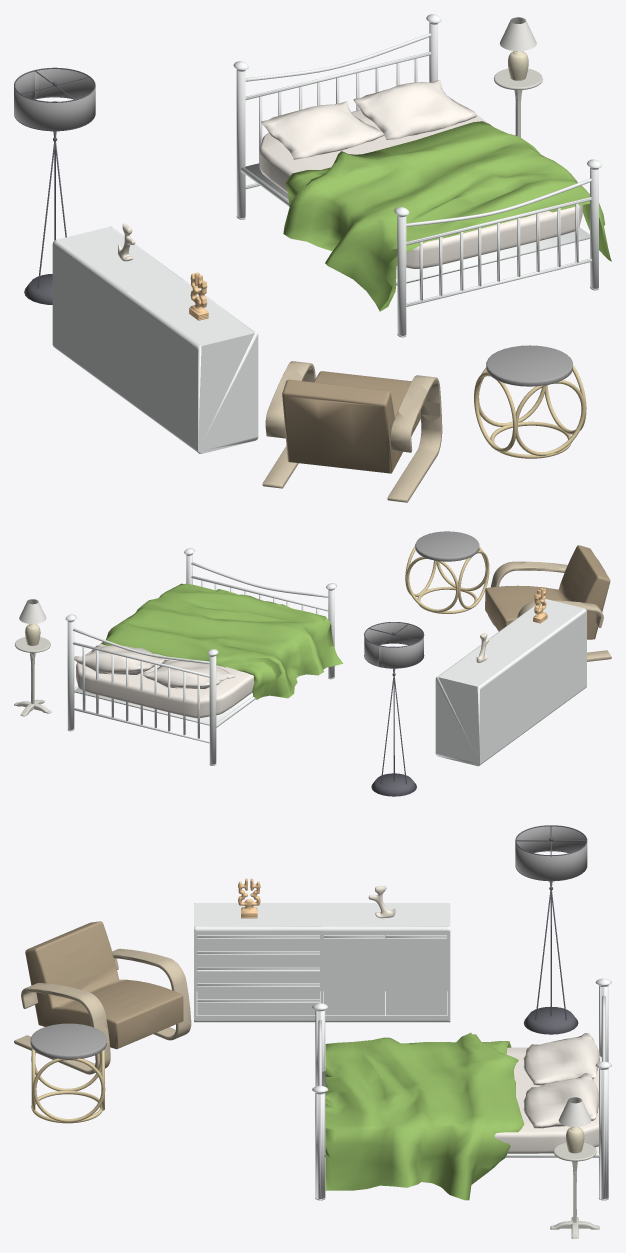
The model's file is room_level4_group_06_lev1.glb.
3 renders of one model, top to bottom at view 1: azimuth 30°, elevation 25°; view 2: azimuth 150°, elevation 25°; view 3: azimuth 270°, elevation 25°, orthographic. The views are drawn at different scales.
Visible parts, largest first — view 1: mesh81__6dab0233_c0c7_3248_b49c_e086db919bce__0_lev1, mesh94__1f19c920_ce5a_3842_bb2a_e70101ab46c6__0_lev1, mesh92__62dbe038_df40_0c4d_b67d_7e3f849b26df__0_lev1, mesh93__6dab0233_c0c7_3248_b49c_e086db919bce__0_lev1, mesh79__79fb8a60_4b40_e04b_996b_f35bad34d1c8__0_lev1, mesh78__e2d2bee2_0528_e141_b297_dab19f6332b7__0_lev1, mesh132__5ff736ce_4de9_3040_b753_da85a934f002__0_lev1, mesh71__887e052e_7184_394d_b81b_6c3c057e5b5c__0_lev1, mesh70__7b6aa80e_c070_1d4c_8ddd_a00da2061ac3__0_lev1, mesh130__606be289_e36f_be4e_92d2_bc96bebee327__0_lev1, mesh88__074d10d5_88d0_1e49_9eec_44bf646ab955__0_lev1, mesh90__d239a3ce_7042_cf48_9492_353c45fa69f3__0_lev1; view 2: mesh81__6dab0233_c0c7_3248_b49c_e086db919bce__0_lev1, mesh94__1f19c920_ce5a_3842_bb2a_e70101ab46c6__0_lev1, mesh92__62dbe038_df40_0c4d_b67d_7e3f849b26df__0_lev1, mesh93__6dab0233_c0c7_3248_b49c_e086db919bce__0_lev1, mesh79__79fb8a60_4b40_e04b_996b_f35bad34d1c8__0_lev1, mesh132__5ff736ce_4de9_3040_b753_da85a934f002__0_lev1, mesh71__887e052e_7184_394d_b81b_6c3c057e5b5c__0_lev1, mesh70__7b6aa80e_c070_1d4c_8ddd_a00da2061ac3__0_lev1, mesh78__e2d2bee2_0528_e141_b297_dab19f6332b7__0_lev1, mesh130__606be289_e36f_be4e_92d2_bc96bebee327__0_lev1, mesh73__ae3dd039_72c0_d148_b51a_0d4dce6b57bf__0_lev1, mesh88__074d10d5_88d0_1e49_9eec_44bf646ab955__0_lev1 (+3 smaller); view 3: mesh81__6dab0233_c0c7_3248_b49c_e086db919bce__0_lev1, mesh94__1f19c920_ce5a_3842_bb2a_e70101ab46c6__0_lev1, mesh79__79fb8a60_4b40_e04b_996b_f35bad34d1c8__0_lev1, mesh92__62dbe038_df40_0c4d_b67d_7e3f849b26df__0_lev1, mesh93__6dab0233_c0c7_3248_b49c_e086db919bce__0_lev1, mesh78__e2d2bee2_0528_e141_b297_dab19f6332b7__0_lev1, mesh132__5ff736ce_4de9_3040_b753_da85a934f002__0_lev1, mesh70__7b6aa80e_c070_1d4c_8ddd_a00da2061ac3__0_lev1, mesh130__606be289_e36f_be4e_92d2_bc96bebee327__0_lev1, mesh71__887e052e_7184_394d_b81b_6c3c057e5b5c__0_lev1, mesh73__ae3dd039_72c0_d148_b51a_0d4dce6b57bf__0_lev1, mesh88__074d10d5_88d0_1e49_9eec_44bf646ab955__0_lev1 (+2 smaller).
Part boxes in pixels (left/top/right/bottom): mesh81__6dab0233_c0c7_3248_b49c_e086db919bce__0_lev1: left=52, top=226, right=258, bottom=453; mesh94__1f19c920_ce5a_3842_bb2a_e70101ab46c6__0_lev1: left=283, top=121, right=611, bottom=311; mesh92__62dbe038_df40_0c4d_b67d_7e3f849b26df__0_lev1: left=259, top=80, right=582, bottom=268; mesh93__6dab0233_c0c7_3248_b49c_e086db919bce__0_lev1: left=233, top=14, right=601, bottom=337; mesh79__79fb8a60_4b40_e04b_996b_f35bad34d1c8__0_lev1: left=282, top=371, right=420, bottom=473; mesh78__e2d2bee2_0528_e141_b297_dab19f6332b7__0_lev1: left=262, top=361, right=442, bottom=502; mesh132__5ff736ce_4de9_3040_b753_da85a934f002__0_lev1: left=14, top=69, right=95, bottom=130; mesh71__887e052e_7184_394d_b81b_6c3c057e5b5c__0_lev1: left=474, top=365, right=586, bottom=458; mesh70__7b6aa80e_c070_1d4c_8ddd_a00da2061ac3__0_lev1: left=486, top=345, right=572, bottom=386; mesh130__606be289_e36f_be4e_92d2_bc96bebee327__0_lev1: left=14, top=67, right=95, bottom=304; mesh88__074d10d5_88d0_1e49_9eec_44bf646ab955__0_lev1: left=500, top=17, right=536, bottom=51; mesh90__d239a3ce_7042_cf48_9492_353c45fa69f3__0_lev1: left=189, top=272, right=208, bottom=320; mesh81__6dab0233_c0c7_3248_b49c_e086db919bce__0_lev1: left=435, top=599, right=586, bottom=766; mesh94__1f19c920_ce5a_3842_bb2a_e70101ab46c6__0_lev1: left=101, top=583, right=342, bottom=699; mesh92__62dbe038_df40_0c4d_b67d_7e3f849b26df__0_lev1: left=74, top=643, right=254, bottom=718; mesh93__6dab0233_c0c7_3248_b49c_e086db919bce__0_lev1: left=65, top=548, right=336, bottom=765; mesh79__79fb8a60_4b40_e04b_996b_f35bad34d1c8__0_lev1: left=485, top=545, right=610, bottom=639; mesh132__5ff736ce_4de9_3040_b753_da85a934f002__0_lev1: left=364, top=622, right=423, bottom=667; mesh71__887e052e_7184_394d_b81b_6c3c057e5b5c__0_lev1: left=405, top=546, right=489, bottom=613; mesh70__7b6aa80e_c070_1d4c_8ddd_a00da2061ac3__0_lev1: left=415, top=531, right=479, bottom=561; mesh78__e2d2bee2_0528_e141_b297_dab19f6332b7__0_lev1: left=488, top=561, right=611, bottom=661; mesh130__606be289_e36f_be4e_92d2_bc96bebee327__0_lev1: left=364, top=622, right=424, bottom=796; mesh73__ae3dd039_72c0_d148_b51a_0d4dce6b57bf__0_lev1: left=14, top=637, right=51, bottom=716; mesh88__074d10d5_88d0_1e49_9eec_44bf646ab955__0_lev1: left=19, top=599, right=46, bottom=624; mesh81__6dab0233_c0c7_3248_b49c_e086db919bce__0_lev1: left=194, top=903, right=450, bottom=1022; mesh94__1f19c920_ce5a_3842_bb2a_e70101ab46c6__0_lev1: left=325, top=1032, right=524, bottom=1200; mesh79__79fb8a60_4b40_e04b_996b_f35bad34d1c8__0_lev1: left=25, top=921, right=183, bottom=1049; mesh92__62dbe038_df40_0c4d_b67d_7e3f849b26df__0_lev1: left=494, top=1033, right=601, bottom=1153; mesh93__6dab0233_c0c7_3248_b49c_e086db919bce__0_lev1: left=312, top=978, right=611, bottom=1200; mesh78__e2d2bee2_0528_e141_b297_dab19f6332b7__0_lev1: left=14, top=948, right=191, bottom=1074; mesh132__5ff736ce_4de9_3040_b753_da85a934f002__0_lev1: left=515, top=826, right=587, bottom=880; mesh70__7b6aa80e_c070_1d4c_8ddd_a00da2061ac3__0_lev1: left=30, top=1023, right=106, bottom=1059; mesh130__606be289_e36f_be4e_92d2_bc96bebee327__0_lev1: left=515, top=825, right=587, bottom=1034; mesh71__887e052e_7184_394d_b81b_6c3c057e5b5c__0_lev1: left=31, top=1047, right=105, bottom=1123; mesh73__ae3dd039_72c0_d148_b51a_0d4dce6b57bf__0_lev1: left=550, top=1142, right=599, bottom=1238; mesh88__074d10d5_88d0_1e49_9eec_44bf646ab955__0_lev1: left=558, top=1097, right=591, bottom=1127.
Size of the model in its own units: 48.44 by 17.35 by 50.73.
